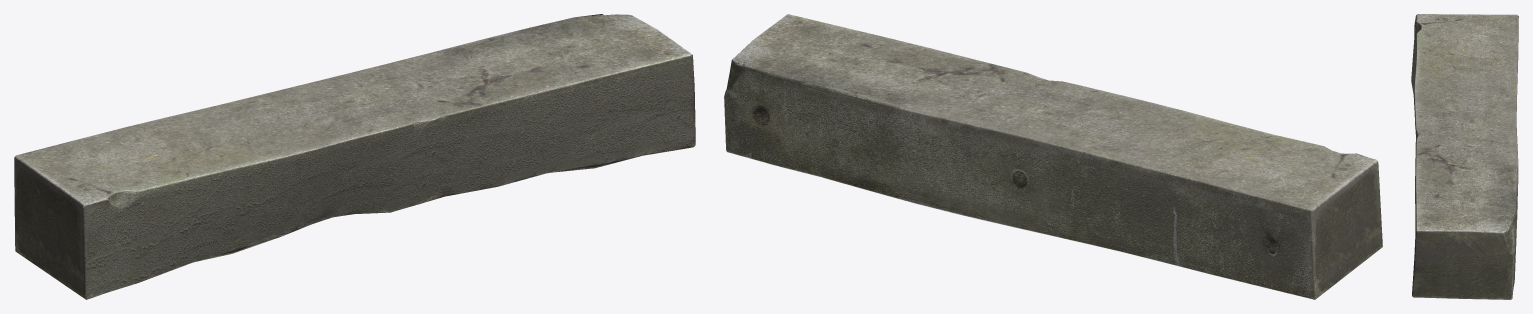
File: sm_GraveDebris_01_01.fbx
3 views of the same model, side by side, from view 1: azimuth 30°, elevation 25°; view 2: azimuth 150°, elevation 25°; view 3: azimuth 270°, elevation 25° (orthographic). The views are drawn at different scales.
Parts seen in each view (by area): view 1: sm_GraveDebris_01_01_LOD0; view 2: sm_GraveDebris_01_01_LOD0; view 3: sm_GraveDebris_01_01_LOD0.
Part boxes in pixels (<box>): sm_GraveDebris_01_01_LOD0: <box>14,14,695,299</box>; sm_GraveDebris_01_01_LOD0: <box>724,14,1382,299</box>; sm_GraveDebris_01_01_LOD0: <box>1411,14,1518,299</box>.
Bounding box in the file's own units: 101 × 20.98 × 15.79.
